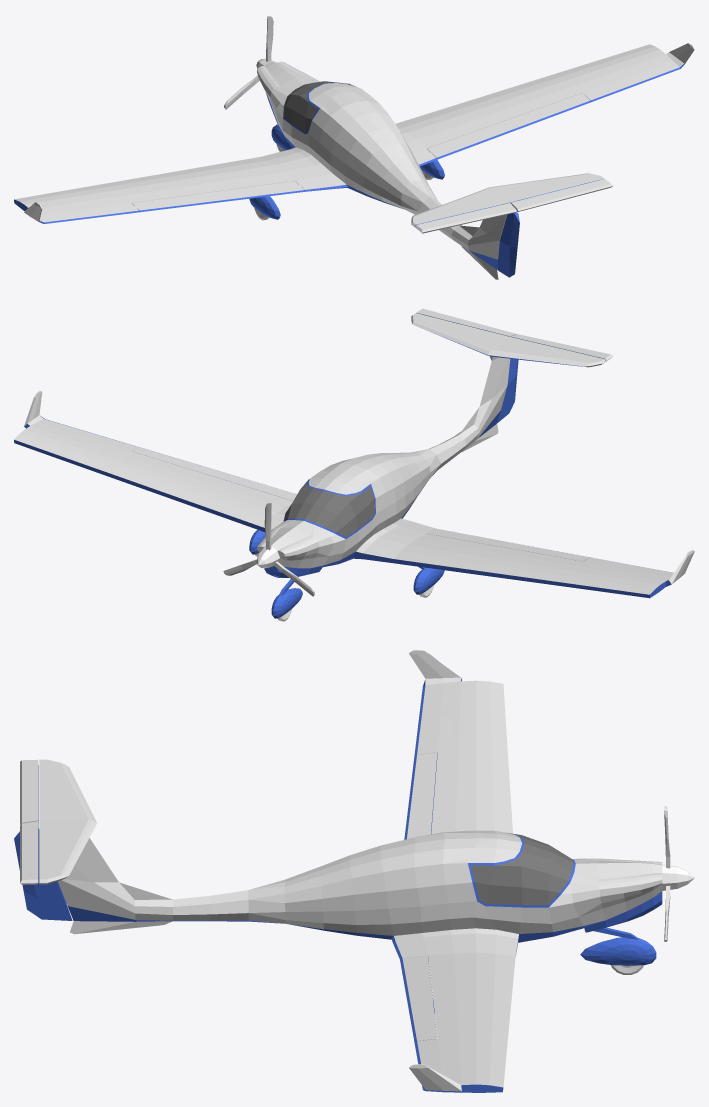
The model's file is airplane_Dominad.fbx.
The picture shows the model from 3 angles, top to bottom: view 1: azimuth 30°, elevation 25°; view 2: azimuth 150°, elevation 25°; view 3: azimuth 270°, elevation 25°; orthographic projection. The views are drawn at different scales.
Visible parts, largest first — view 1: mainframe, flap_right, flap_left, front_hatch.001, elevator_right, rudder, elevator_left, front_hatch, Sphere; view 2: mainframe, front_hatch.001, front_hatch, flap_right, flap_left, Sphere, rudder, Sphere.001, elevator_right, elevator_left; view 3: mainframe, front_hatch.001, flap_right, flap_left, front_hatch, Sphere.001, rudder, elevator_left, elevator_right.
Boxes of the visible parts, left/top/right/bottom form: mainframe: left=14, top=43, right=694, bottom=279; flap_right: left=427, top=93, right=591, bottom=159; flap_left: left=132, top=181, right=305, bottom=212; front_hatch.001: left=283, top=81, right=354, bottom=132; elevator_right: left=511, top=179, right=613, bottom=211; rudder: left=497, top=212, right=519, bottom=277; elevator_left: left=415, top=203, right=516, bottom=233; front_hatch: left=283, top=82, right=370, bottom=134; Sphere: left=249, top=160, right=444, bottom=219; mainframe: left=14, top=313, right=694, bottom=598; front_hatch.001: left=283, top=480, right=374, bottom=537; front_hatch: left=284, top=471, right=375, bottom=538; flap_right: left=132, top=447, right=296, bottom=500; flap_left: left=427, top=528, right=590, bottom=561; Sphere: left=249, top=530, right=444, bottom=594; rudder: left=497, top=358, right=518, bottom=422; Sphere.001: left=271, top=588, right=302, bottom=618; elevator_right: left=416, top=308, right=516, bottom=336; elevator_left: left=511, top=334, right=613, bottom=361; mainframe: left=39, top=650, right=662, bottom=1092; front_hatch.001: left=471, top=833, right=573, bottom=905; flap_right: left=400, top=956, right=437, bottom=1042; flap_left: left=404, top=752, right=437, bottom=839; front_hatch: left=467, top=830, right=575, bottom=907; Sphere.001: left=580, top=937, right=656, bottom=965; rudder: left=14, top=828, right=72, bottom=920; elevator_left: left=20, top=759, right=38, bottom=824; elevator_right: left=20, top=821, right=38, bottom=884.
Size of the model in its own units: 1015 by 703 by 191.
